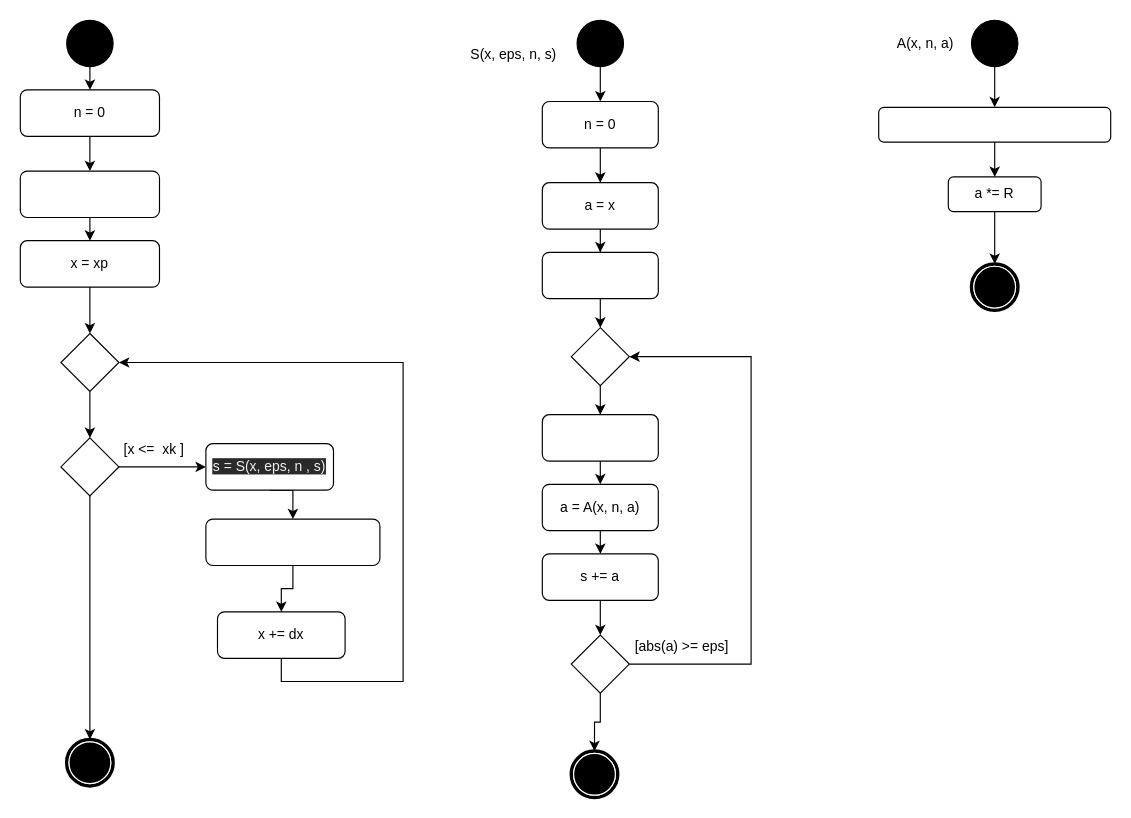
Image size: 1131x818. Some labels were removed from this diagram. The shapes that lost their labels are listed below. From the top down, each one's centre as x and y in pixels, then its label:
the point at 994,124: R = (-1 * ((n + 1) * x) / (n + 2))
the point at 89,193: ввід xp,xk,dx,eps
the point at 599,275: s = a
the point at 599,437: n++
the point at 292,542: вивід x, log(x + 1), s, n
